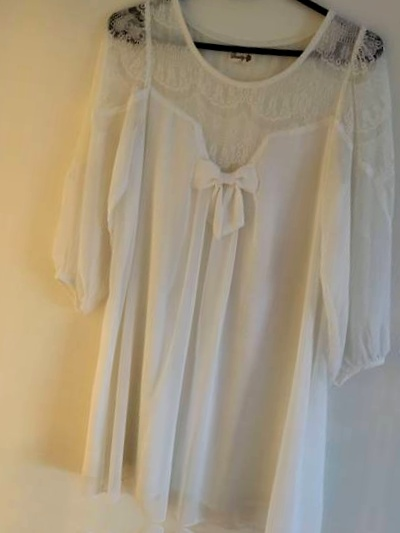Dress: (0, 0, 400, 533), (378, 29, 400, 533), (0, 505, 358, 533), (0, 0, 4, 492)
